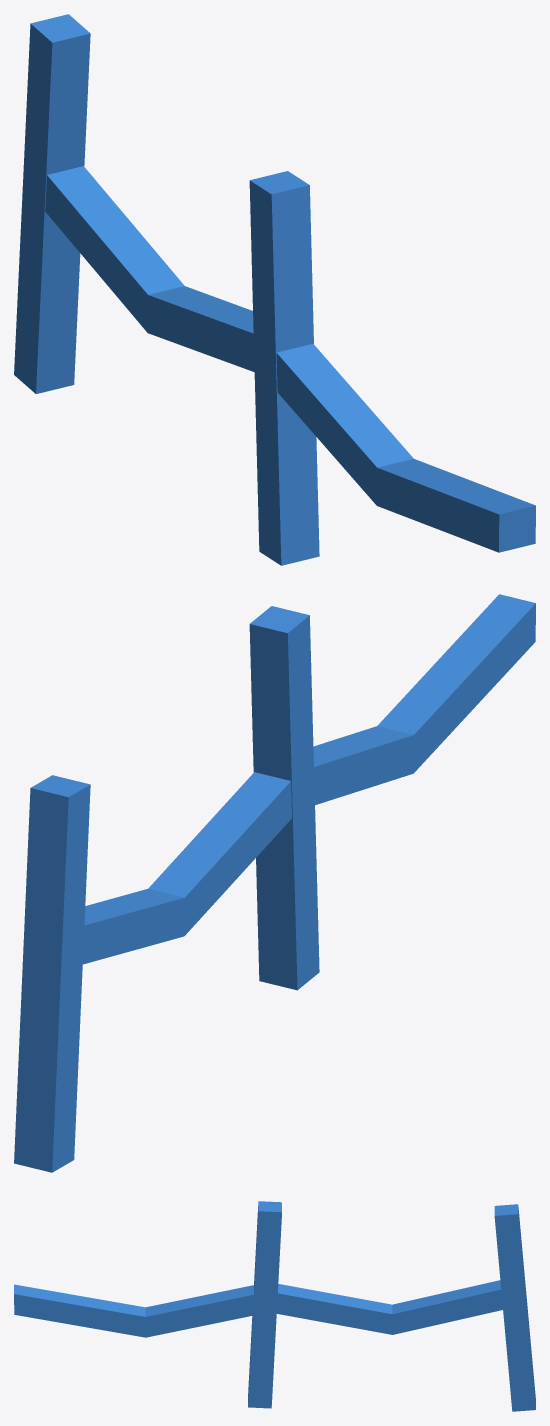
File: Collision_Roof_Spikes_Mid2.fbx
3 renders of one model, top to bottom at view 1: azimuth 30°, elevation 25°; view 2: azimuth 150°, elevation 25°; view 3: azimuth 270°, elevation 25°, orthographic. The views are drawn at different scales.
Visible parts, largest first — view 1: UCX_Roof_Spikes_Mid2_01; view 2: UCX_Roof_Spikes_Mid2_01; view 3: UCX_Roof_Spikes_Mid2_01.
Part boxes in pixels (x1,y1,x2,y2): UCX_Roof_Spikes_Mid2_01: (14, 14, 535, 565); UCX_Roof_Spikes_Mid2_01: (14, 594, 535, 1172); UCX_Roof_Spikes_Mid2_01: (14, 1201, 535, 1411).
Size of the model in its own units: 14.41 by 134 by 316.
